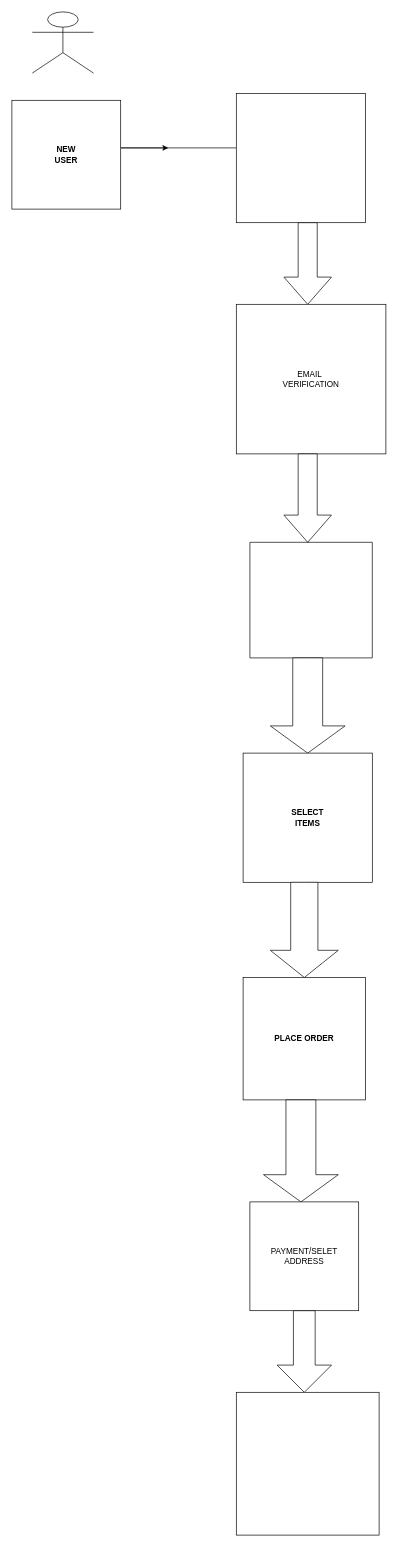
Image size: 398x1547. Some labels were removed from this diagram. Here are the shapes that lost their labels. From the top down, the box of each, then its label:
(32, 11, 94, 73): Actor
(236, 93, 366, 223): SIGN UP
(249, 542, 372, 658): LOGIN
